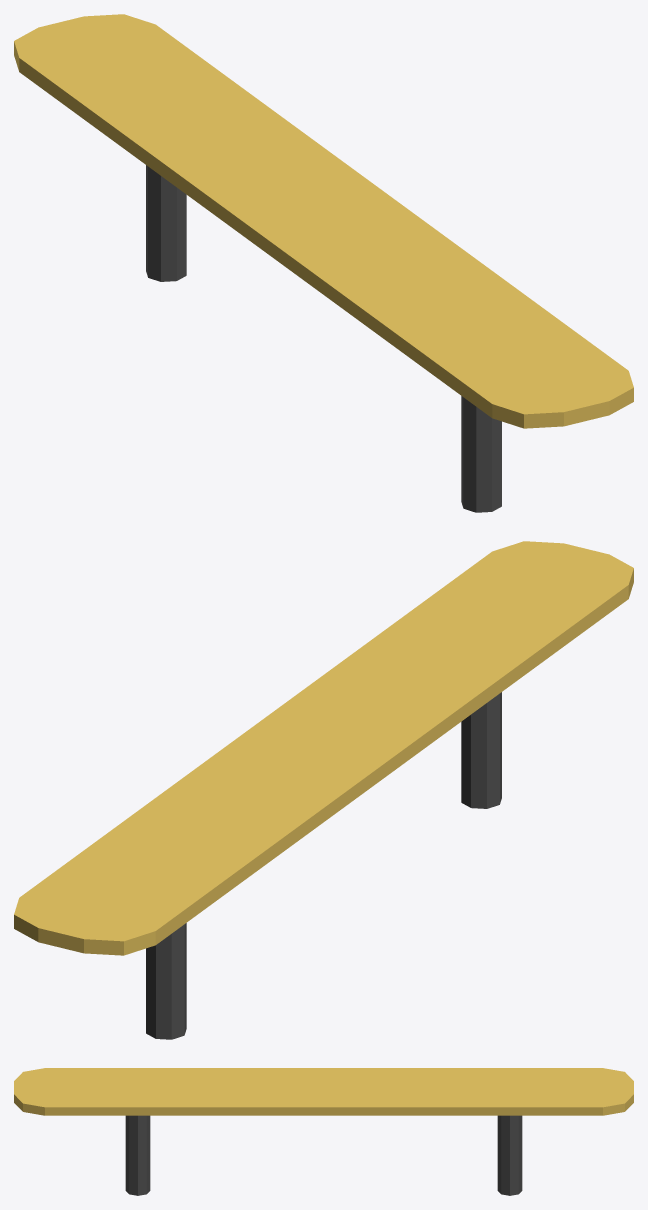
The model's file is Bench_01.fbx.
3 renders of one model, top to bottom at view 1: azimuth 30°, elevation 25°; view 2: azimuth 150°, elevation 25°; view 3: azimuth 270°, elevation 25°, orthographic. The views are drawn at different scales.
Parts seen in each view (by area): view 1: Cube_1; view 2: Cube_1; view 3: Cube_1.
Part boxes in pixels (box(x1,y1,x2,y2)): Cube_1: box(14, 14, 633, 512); Cube_1: box(14, 541, 633, 1039); Cube_1: box(14, 1068, 633, 1195).
Size of the model in its own units: 30 by 36.65 by 200.
Materials: 1 (1 with a texture image).
